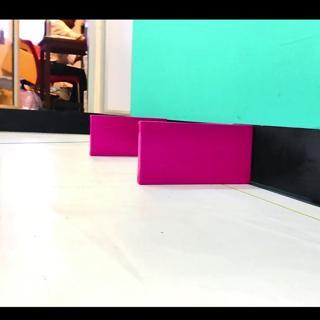xparking: (141, 123, 253, 186), (92, 114, 138, 157)
